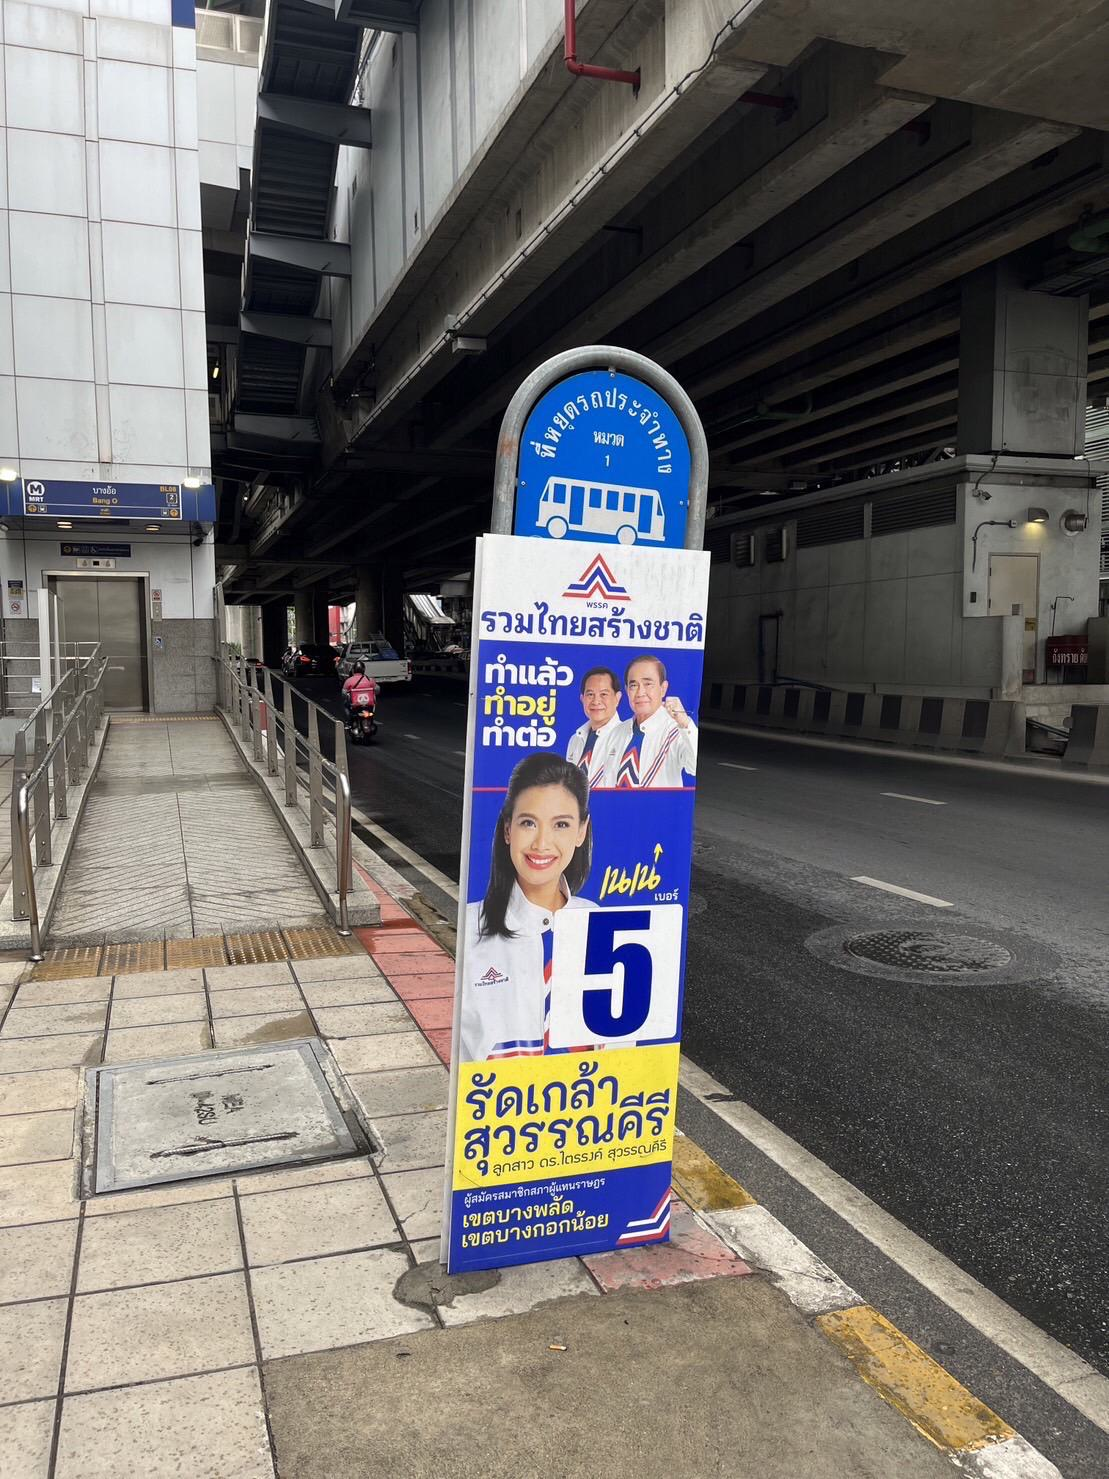Banner: (435, 525, 674, 1254)
